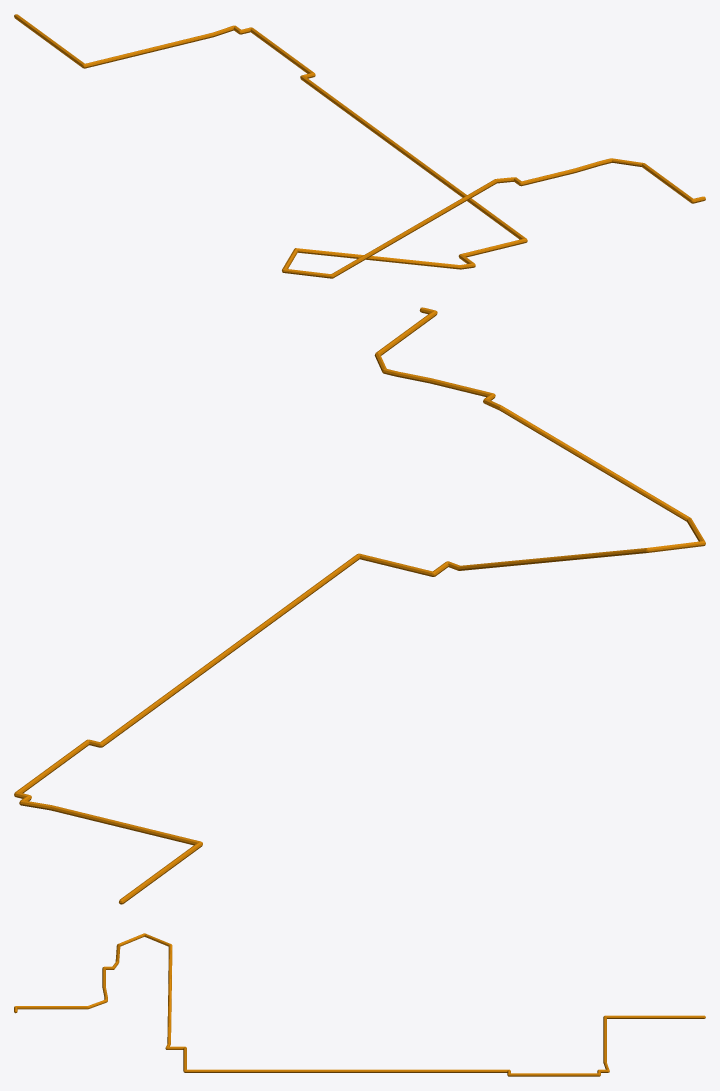
3 renders of one model, top to bottom at view 1: azimuth 30°, elevation 25°; view 2: azimuth 150°, elevation 25°; view 3: azimuth 270°, elevation 25°, orthographic. The views are drawn at different scales.
Size of the model in its own units: 1563 by 520 by 3845.
